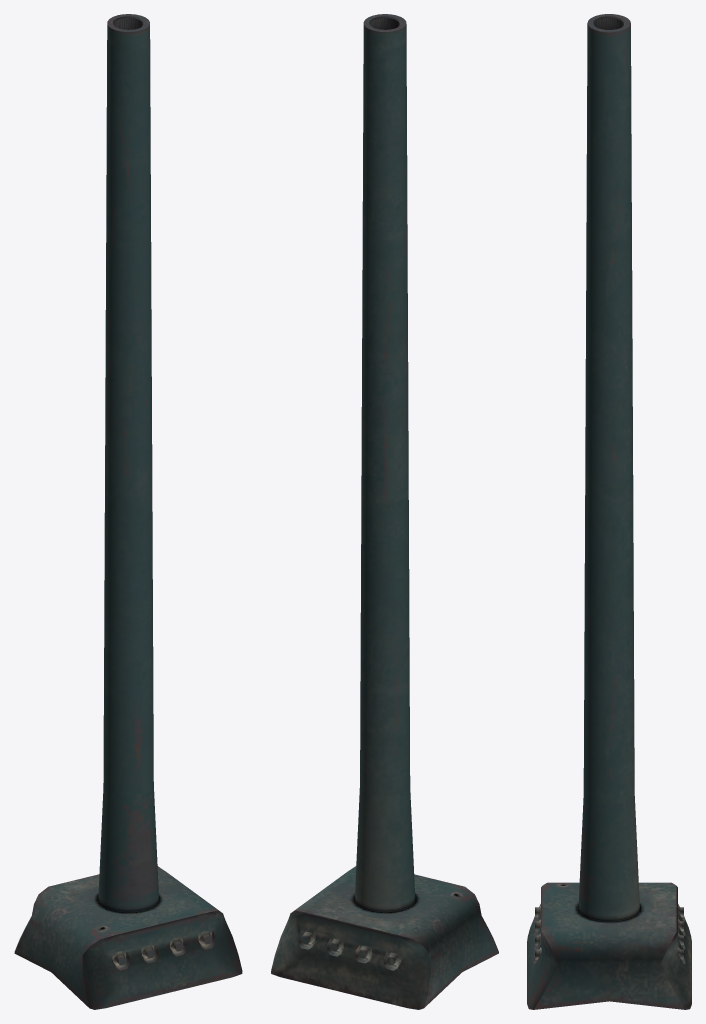
Rendered from Gun_06.glb.
The picture shows the model from 3 angles, left to right: view 1: azimuth 30°, elevation 25°; view 2: azimuth 150°, elevation 25°; view 3: azimuth 270°, elevation 25°; orthographic projection.
Parts seen in each view (by area): view 1: set_0_group_0; view 2: set_0_group_0; view 3: set_0_group_0.
Boxes of the visible parts, left/top/right/bottom form: set_0_group_0: left=14, top=14, right=242, bottom=1009; set_0_group_0: left=271, top=14, right=498, bottom=1009; set_0_group_0: left=527, top=14, right=691, bottom=1009.
Bounding box in the file's own units: 0.6379 × 3.7 × 0.5822.
1 material, 1 textured.
